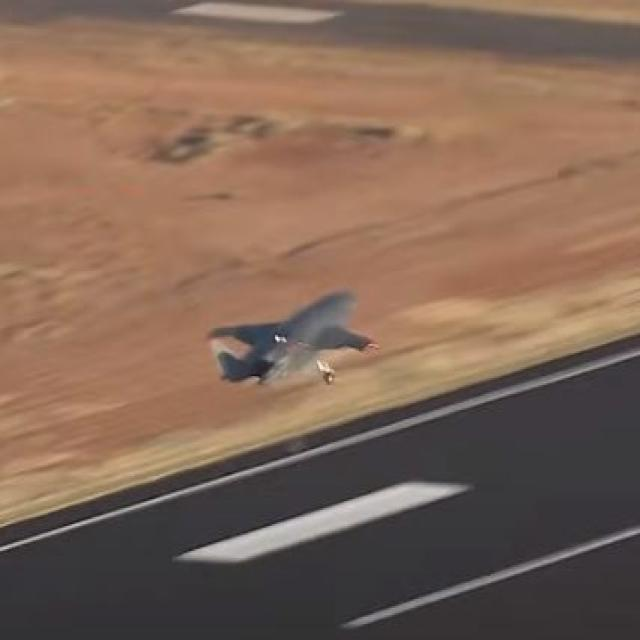iha: (204, 320, 381, 359)
